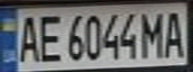0: (81, 10, 103, 61)
4: (118, 9, 142, 60), (103, 10, 124, 61)
6: (63, 10, 84, 62)
A: (12, 11, 42, 64), (160, 7, 190, 58)
E: (33, 11, 63, 63)
M: (139, 8, 166, 59)
